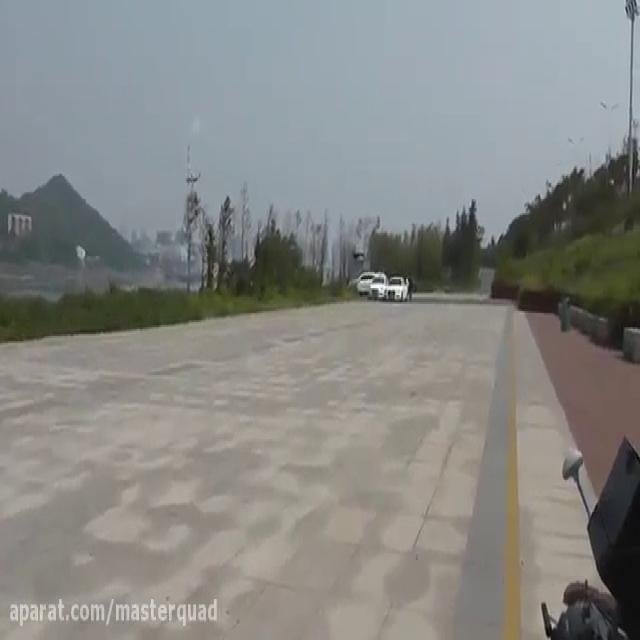drone: (183, 163, 201, 185)
